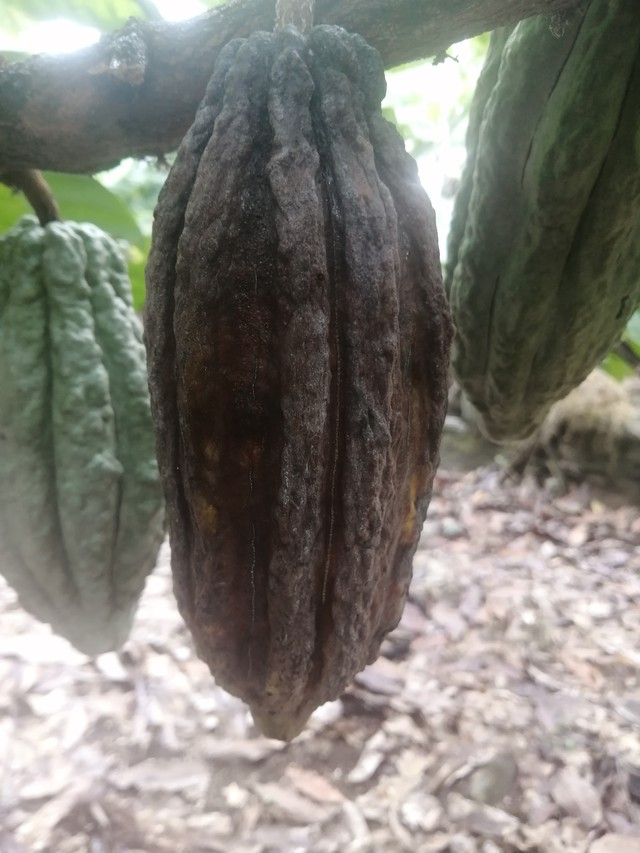phytophthora palmivora: (124, 14, 467, 747)
